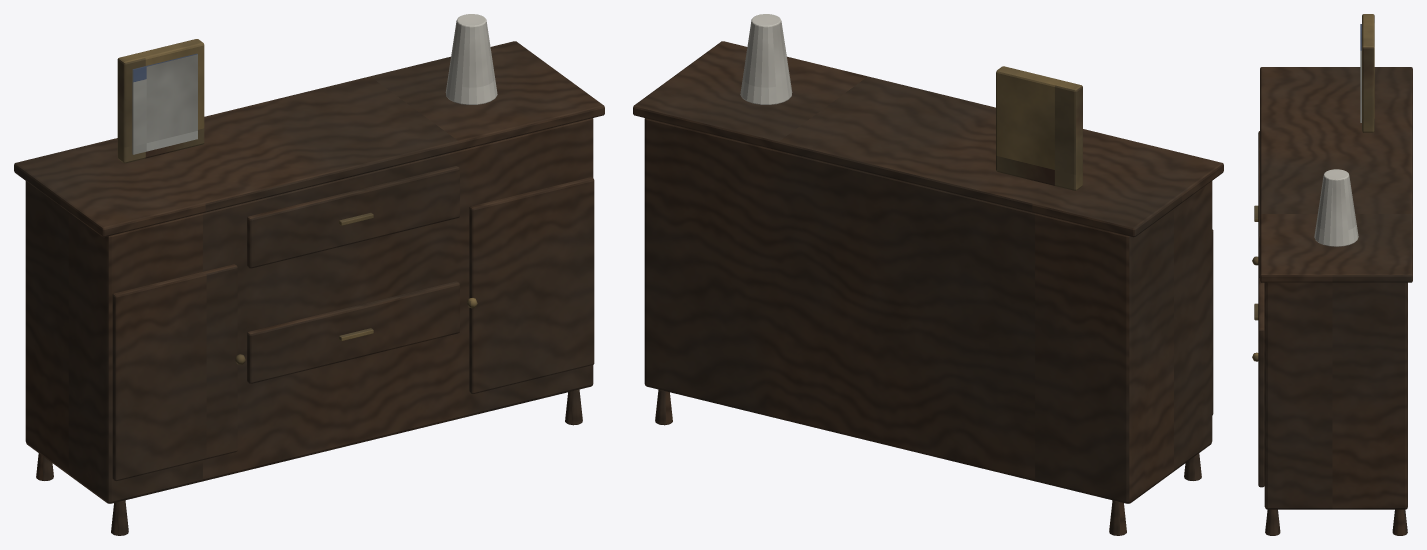
Rendered from L15_sideboard_cabinet.glb.
The picture shows the model from 3 angles, left to right: view 1: azimuth 30°, elevation 25°; view 2: azimuth 150°, elevation 25°; view 3: azimuth 270°, elevation 25°; orthographic projection. The views are drawn at different scales.
Visible parts, largest first — view 1: L15_sideboard_cabinet; view 2: L15_sideboard_cabinet; view 3: L15_sideboard_cabinet.
Part boxes in pixels (x1=…): L15_sideboard_cabinet: x1=14, y1=14, x2=604, y2=535; L15_sideboard_cabinet: x1=633, y1=14, x2=1223, y2=535; L15_sideboard_cabinet: x1=1252, y1=14, x2=1412, y2=535.
Bounding box in the file's own units: 1.5 × 1.19 × 0.4887.
Materials: 5 (5 with a texture image).
